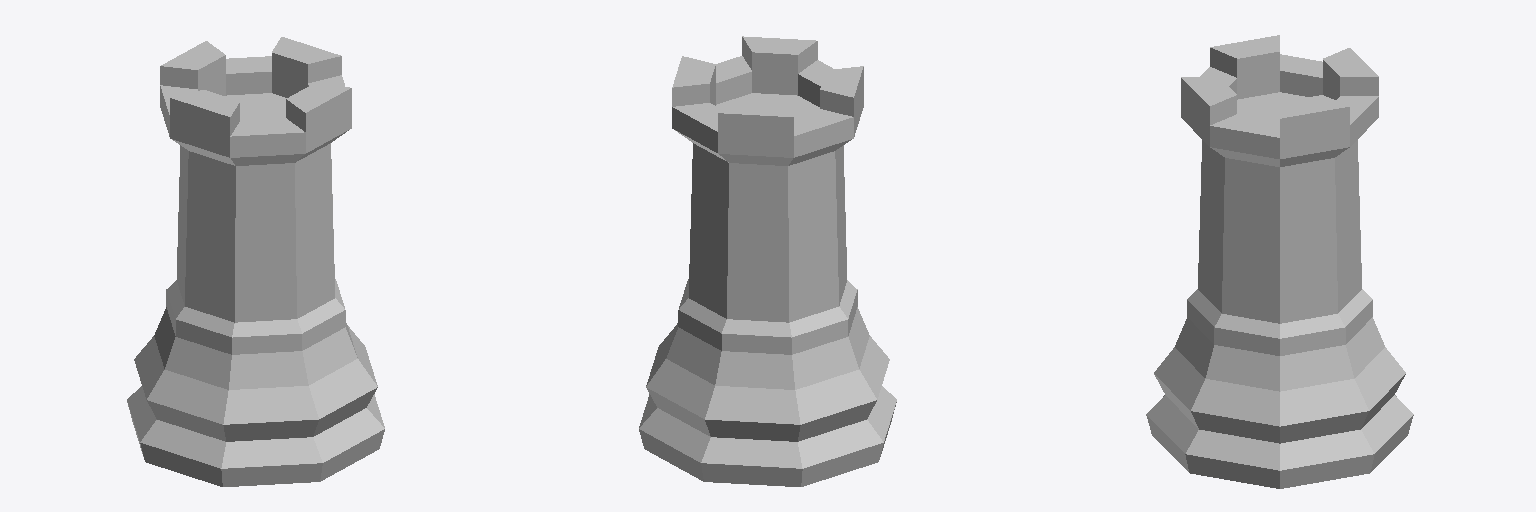
Rendered from rook.obj.
3 views of the same model, side by side, from view 1: azimuth 30°, elevation 25°; view 2: azimuth 150°, elevation 25°; view 3: azimuth 270°, elevation 25° (orthographic).
Visible parts, largest first — view 1: Chess_Rook; view 2: Chess_Rook; view 3: Chess_Rook.
Part boxes in pixels (x1,y1,x2,y2): Chess_Rook: (127, 37, 384, 486); Chess_Rook: (639, 36, 896, 486); Chess_Rook: (1146, 35, 1413, 488).
Size of the model in its own units: 3.93 by 5.8 by 3.93.